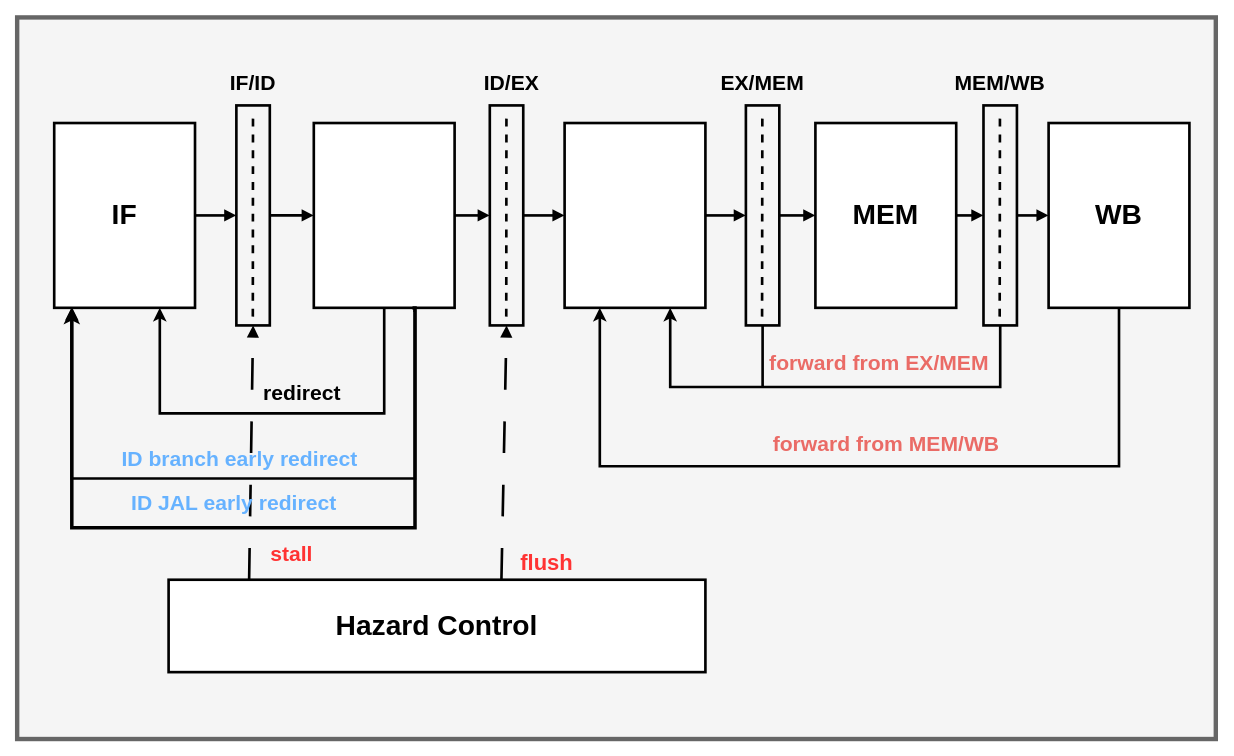
Image size: 1234x756. Some labels were removed from this diagram. Each missing label, with the centre of its shape:
EX: [634,215]
ID: [383,215]
